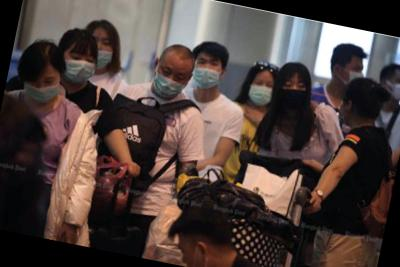mask_weared_incorrect: (82, 32, 118, 74), (173, 235, 209, 267)
with_mask: (20, 69, 64, 108), (148, 63, 189, 104), (59, 50, 99, 89), (273, 77, 310, 117), (189, 54, 225, 93), (247, 77, 276, 109), (344, 62, 367, 92), (388, 76, 400, 102)
